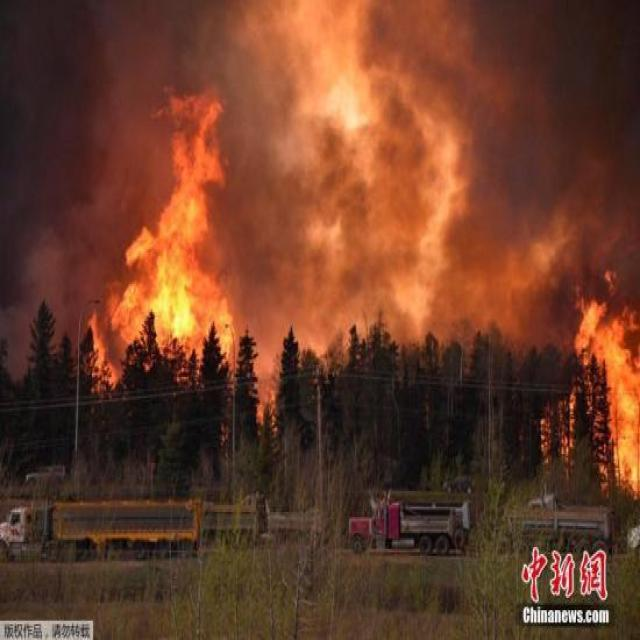fire: (79, 80, 234, 358), (530, 276, 638, 486)
